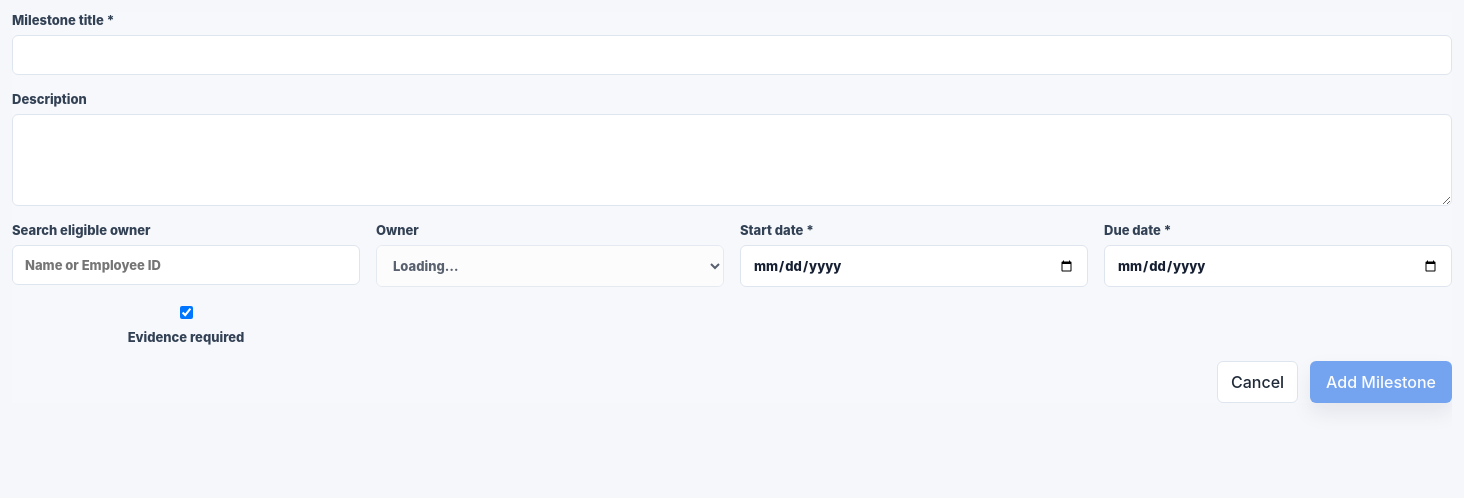
Test: F4 M1 milestone date persistence remediation › fails before mutation when milestone dates are missing or partial ( / 2026-08-22)
The width and height of the screenshot is (1464, 498).
Type "Incomplete milestone" into the field labelled "Milestone title *" at {"x": 732, "y": 55}, box [12,35,1452,75]
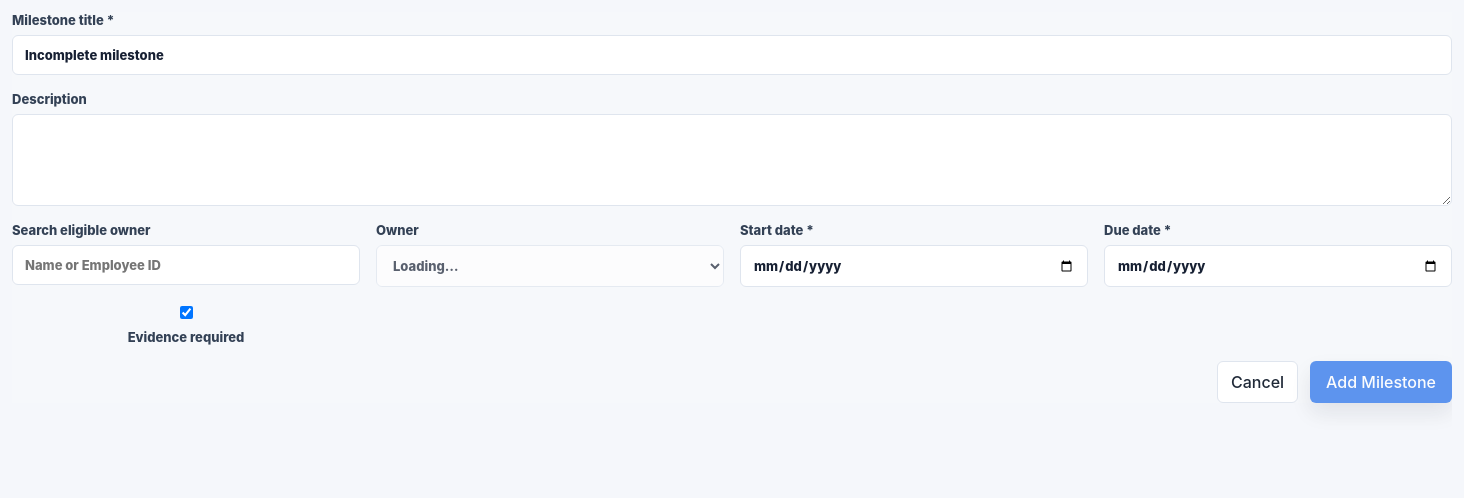
Type "2026-08-22" into the date field labelled "Due date *" at {"x": 1278, "y": 266}, box [1104,245,1452,287]
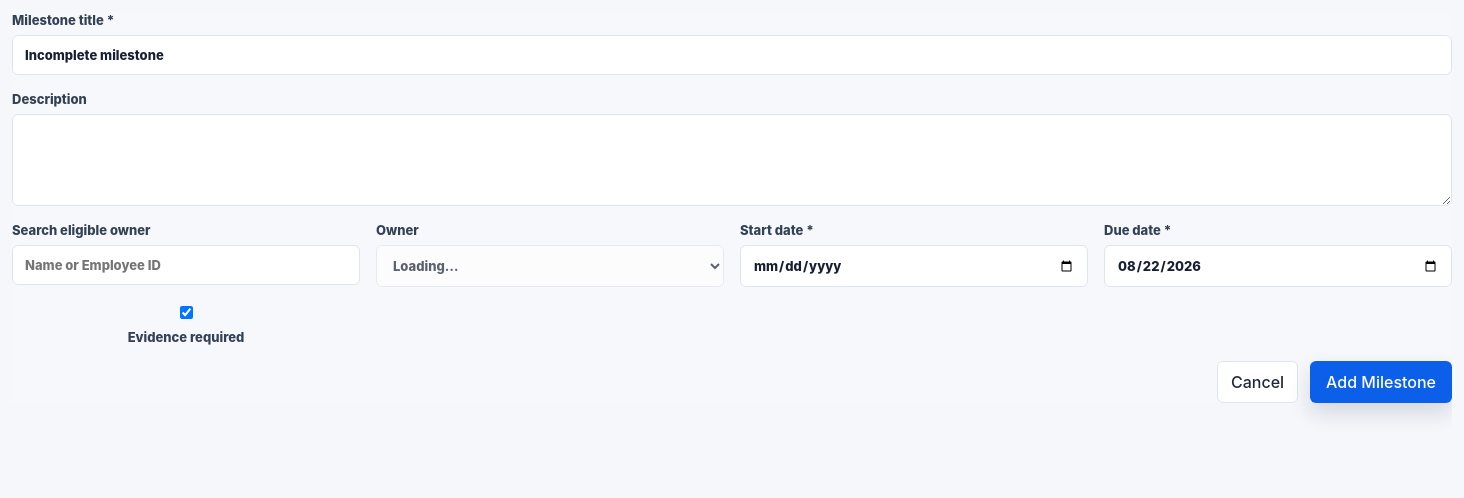
Submit the form named "Add Milestone"
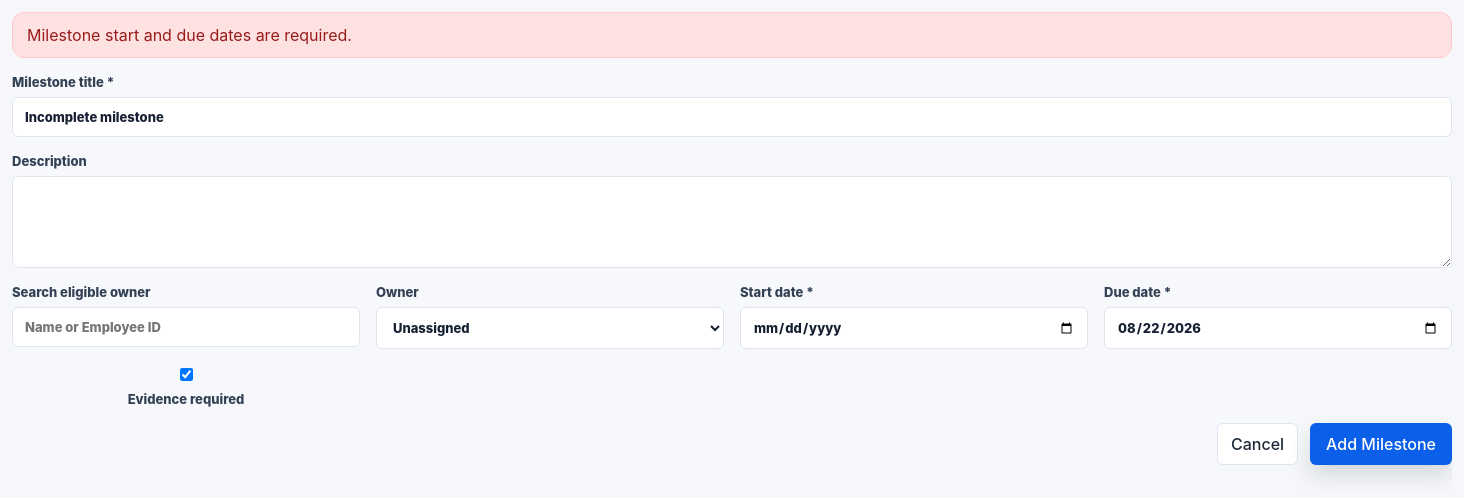
Expected: the text "Milestone start and due dates are required." is shown, [12,12,1452,58]
